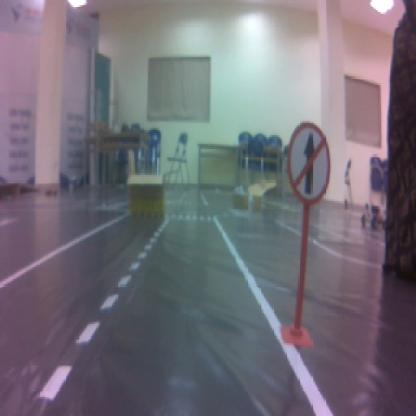camera: (290, 123, 330, 205)
